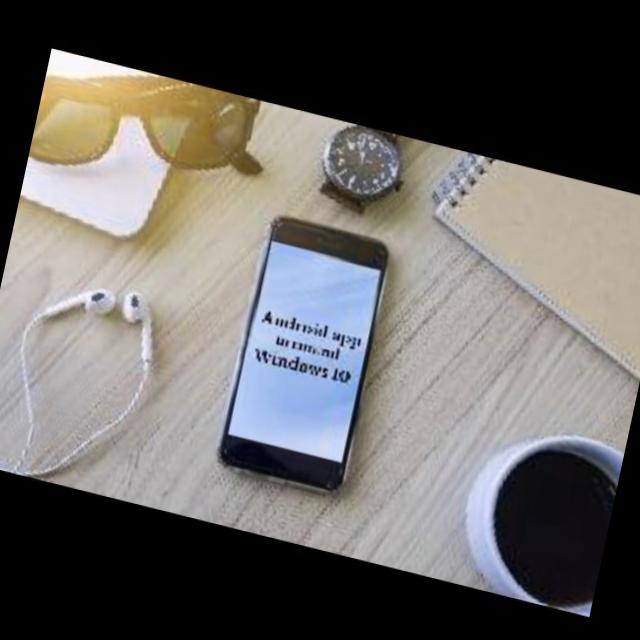Smartphone: (216, 203, 402, 500)
